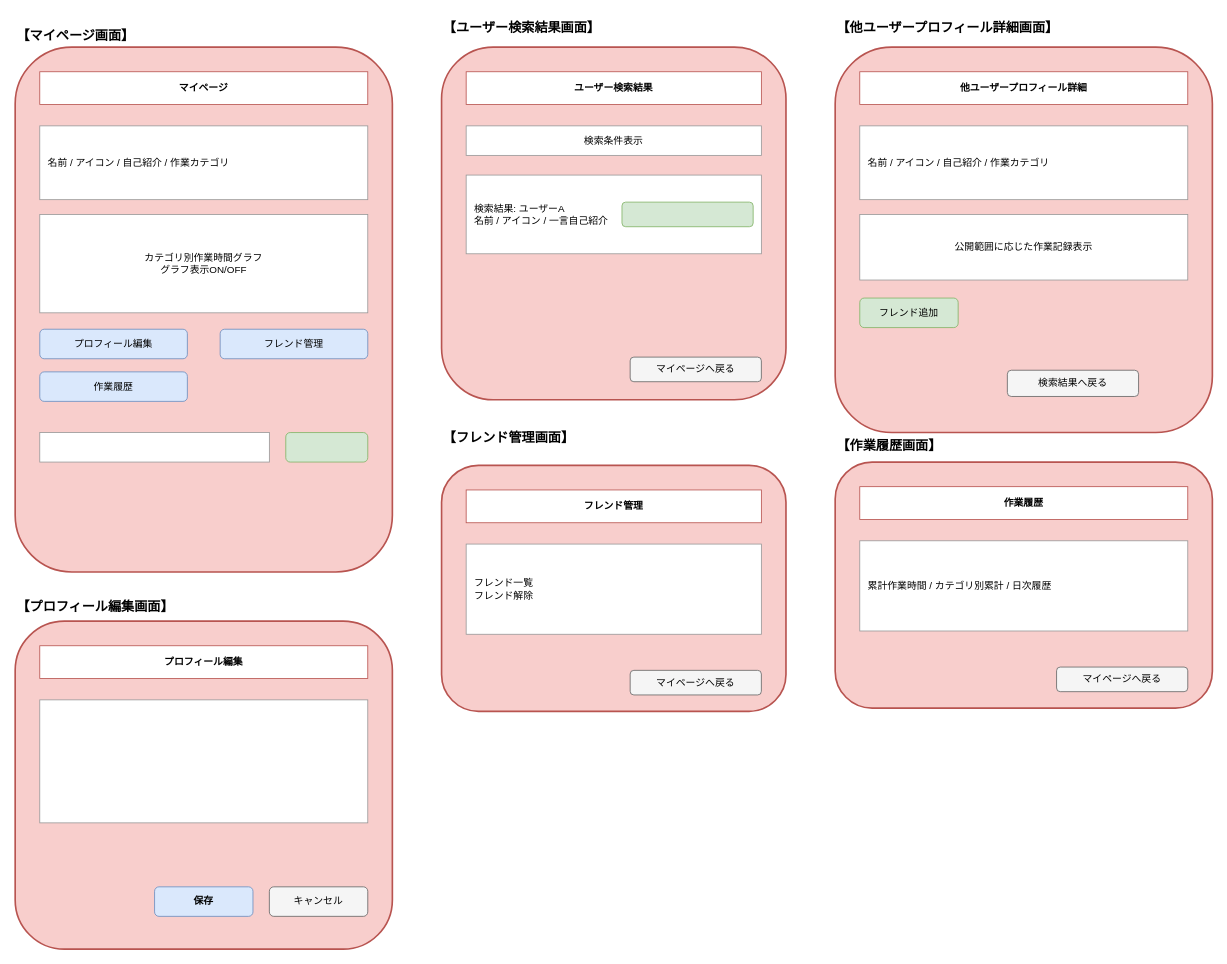
The diagram is 1227 pixels wide and 964 high, and some of its shapes have lost their labels. Each missing label, with the centre of its shape:
プロフィール詳細へ: [687,214]
ユーザー名検索 入力欄: [154,447]
名前 / アイコン / 自己紹介 / 作業カテゴリ / プロフィール公開設定: [203,761]
検索: [326,447]
